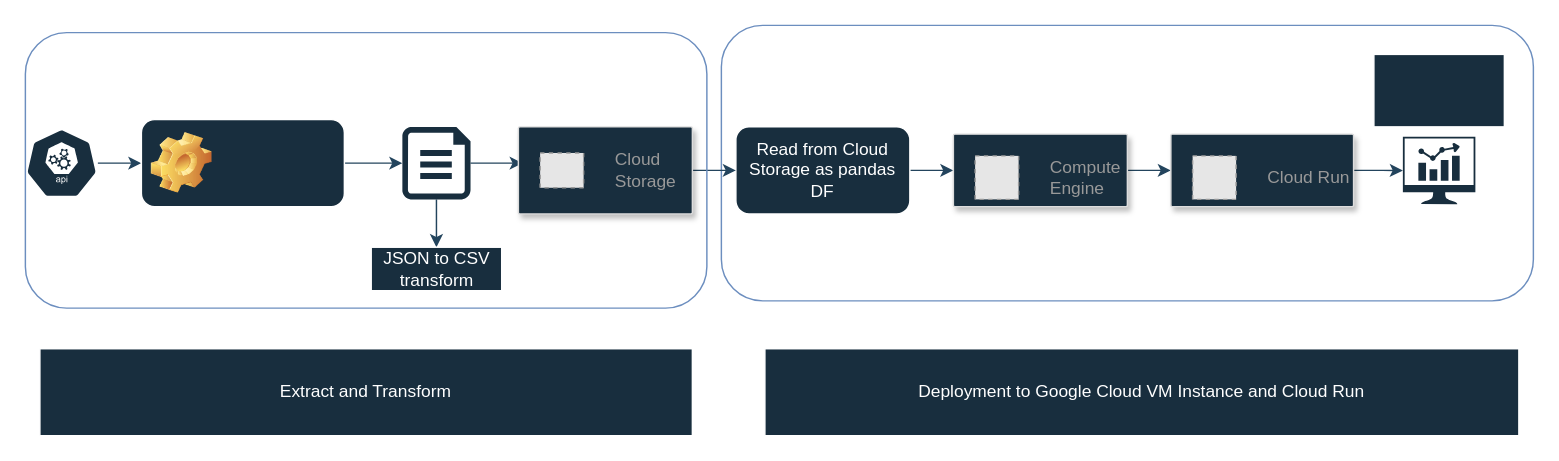
Image size: 1559x461. Some labels were removed from this diagram. Grey dashed boxes stand in for pictures. The centre of each missing label's shape, as x and y in pixels:
"Dashboard powered by Plotly Dash" belongs at (x=1438, y=90).
"Transform" belongs at (x=242, y=162).
